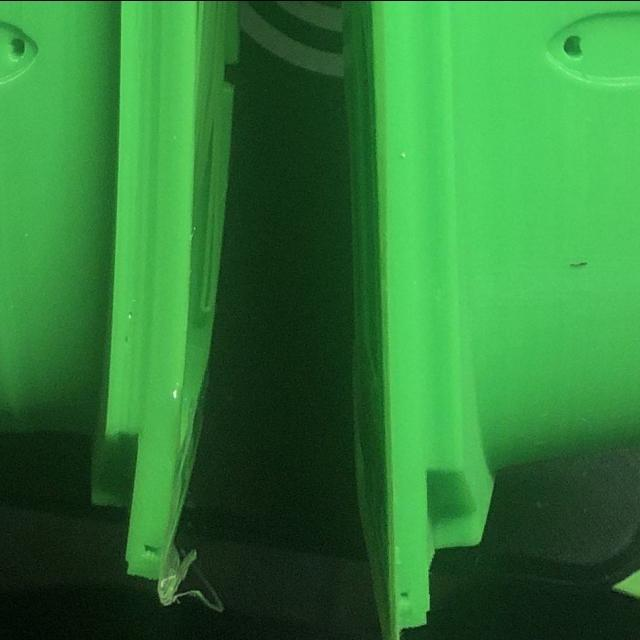Warping: (130, 368, 202, 578)
